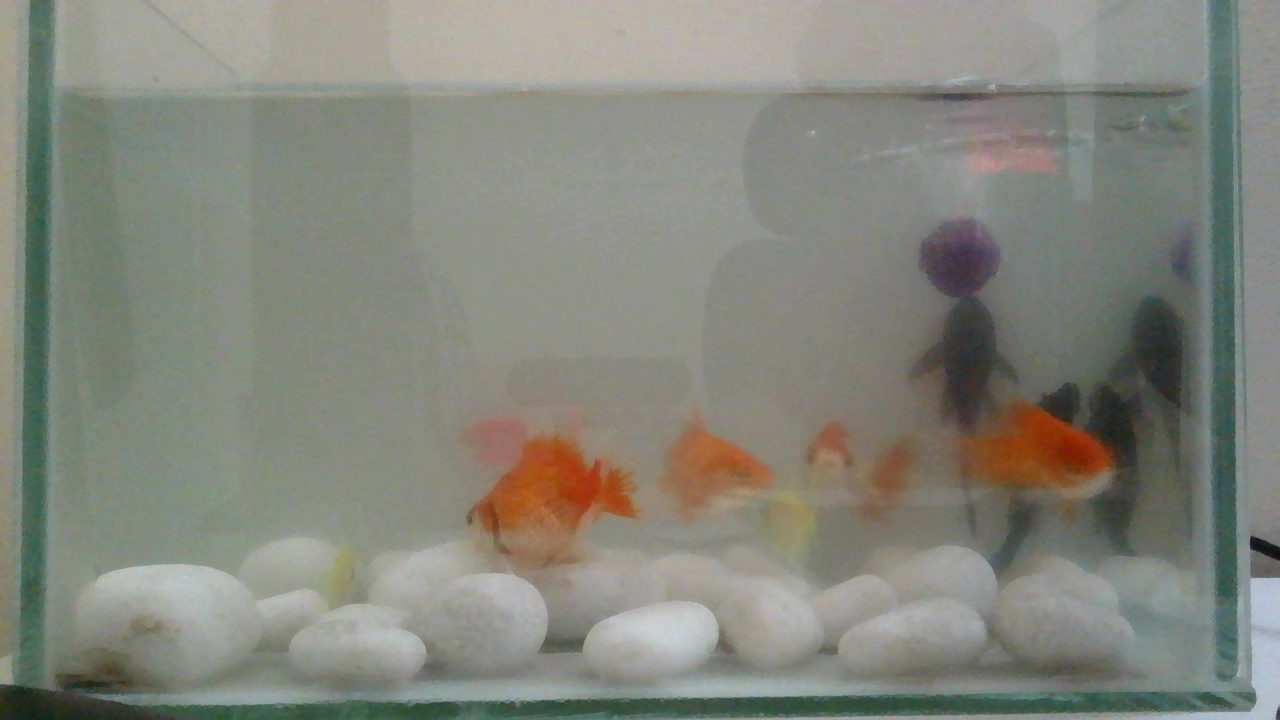fish: (460, 404, 638, 574), (958, 389, 1117, 504)
